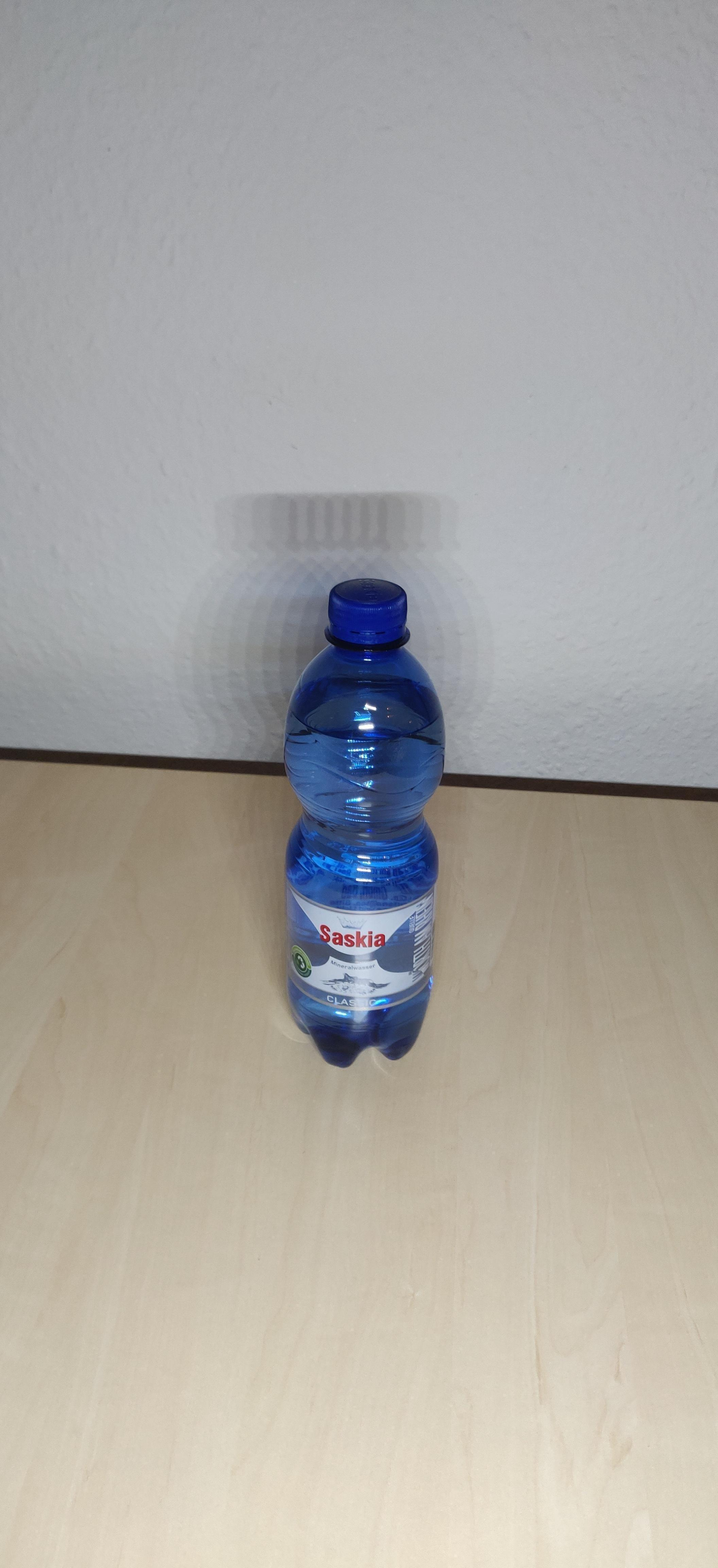bottle-plastic: (283, 579, 446, 1071)
